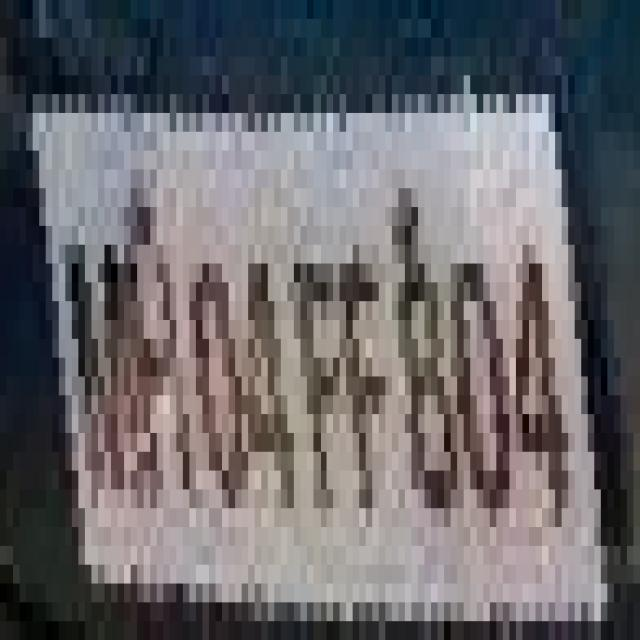license_plate: (6, 94, 601, 602)
